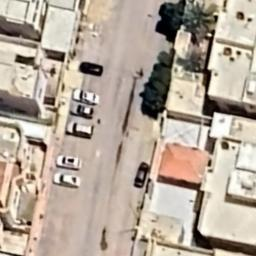SUV: (62, 119, 96, 140)
sedan: (72, 87, 101, 107), (53, 170, 82, 190), (78, 59, 106, 78), (57, 153, 84, 172), (68, 101, 96, 119), (134, 159, 150, 189)
